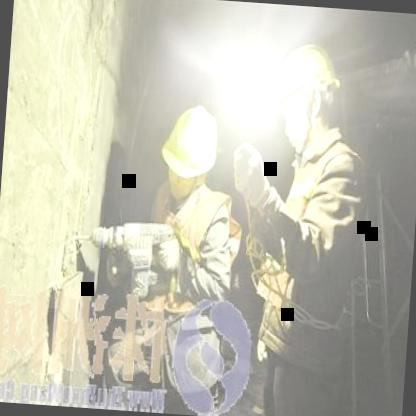helmet: (268, 39, 345, 163), (156, 101, 222, 210)
